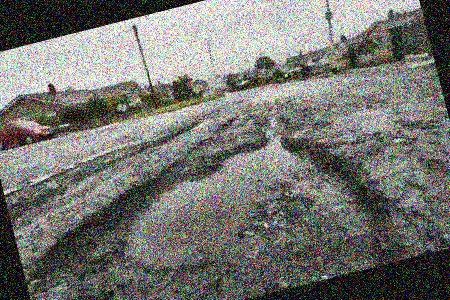pothole: (5, 106, 406, 300)
